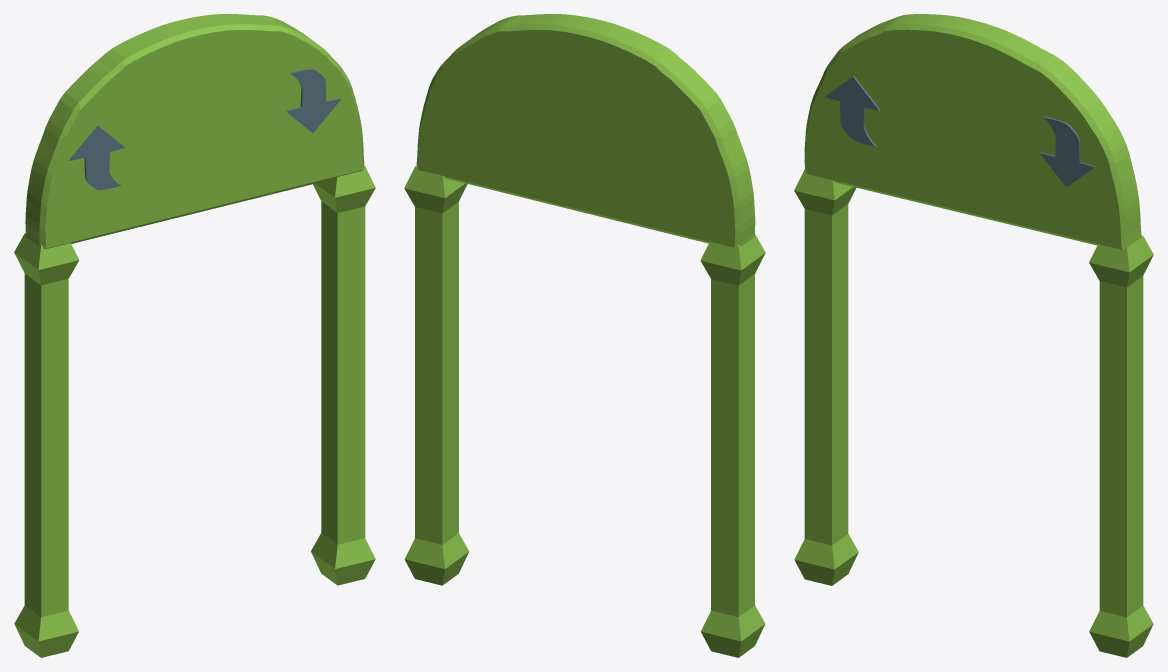
Rendered from Kapı.fbx.
3 renders of one model, left to right at view 1: azimuth 30°, elevation 25°; view 2: azimuth 150°, elevation 25°; view 3: azimuth 330°, elevation 25°, orthographic.
Visible parts, largest first — view 1: door; view 2: door; view 3: door.
Boxes of the visible parts, box(x1,y1,x2,y2) form: door: box(14, 14, 375, 657); door: box(404, 14, 765, 657); door: box(794, 14, 1153, 657).
Bounding box in the file's own units: 101 × 169 × 12.94.
